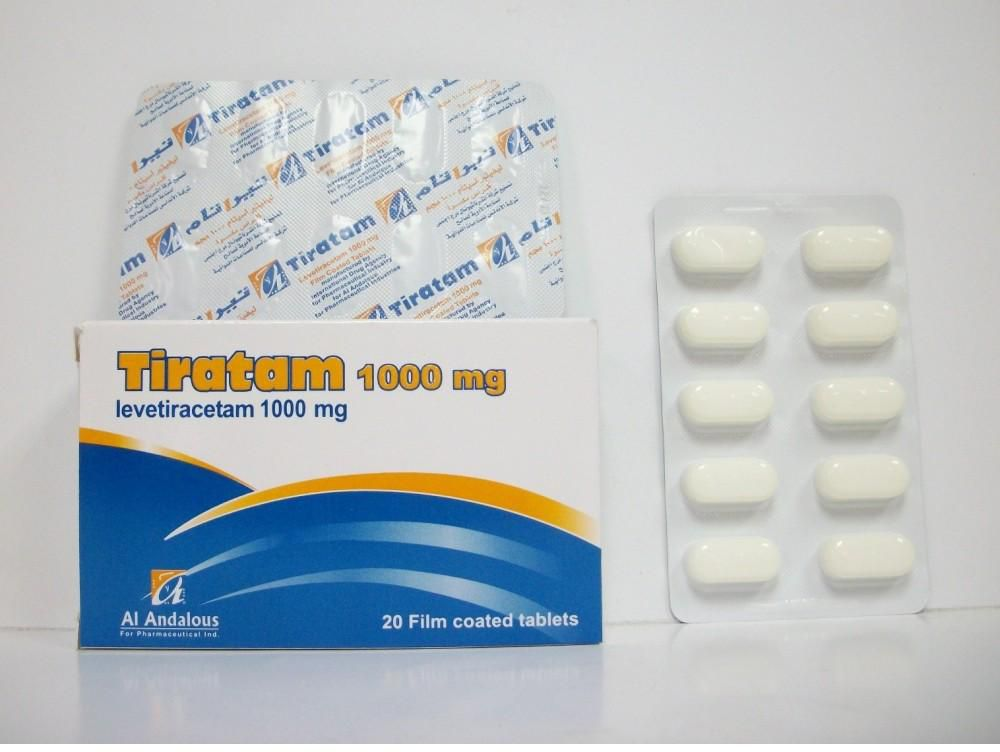Medicine: (70, 310, 612, 656), (124, 82, 580, 322)
